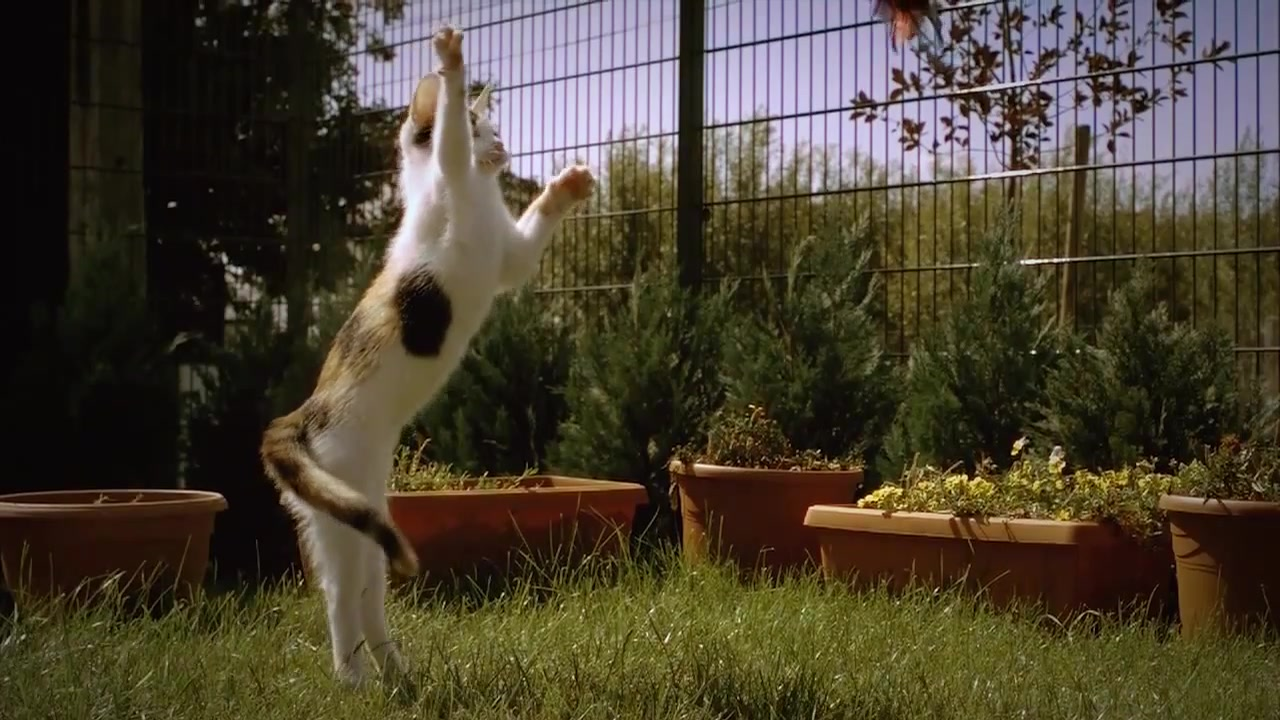cat: (262, 25, 596, 702)
